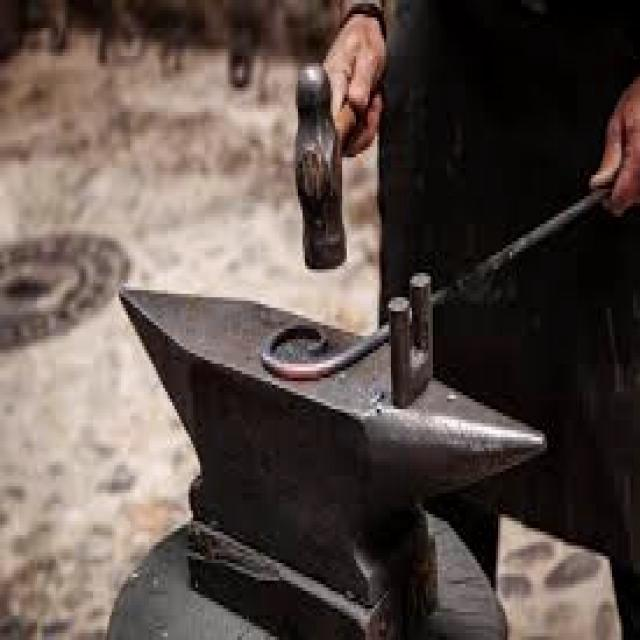hammer: (278, 52, 371, 284)
